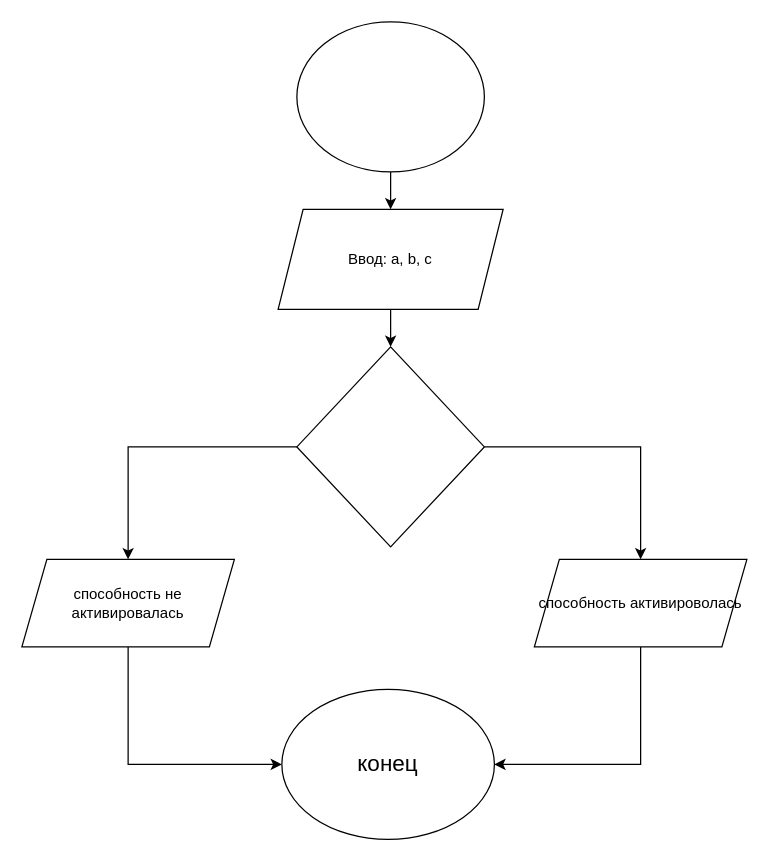
This 769x861 diagram has some shape labels left out. Each missing label, with the centre of its shape:
"начало" belongs at [390,96].
"силы героев кратны 3" belongs at [390,446].
